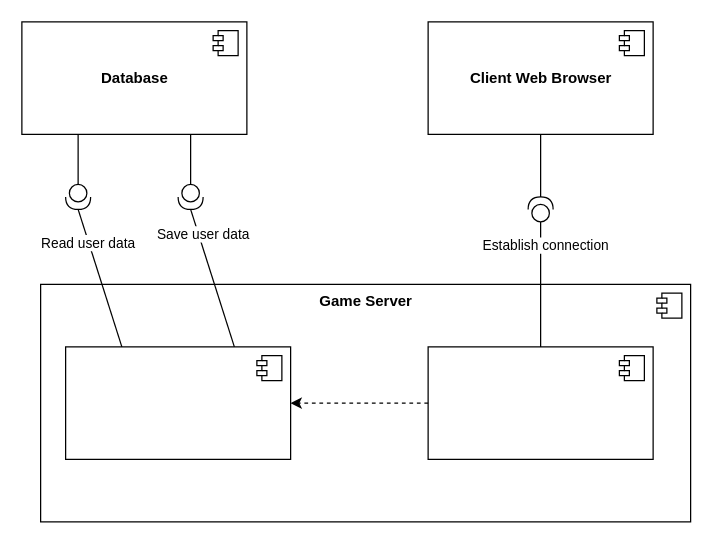
Image size: 713x544. Some labels were removed from this diagram. Each missing label, with the centre of its shape:
Database Controllet: the point at 177,402
Socket IO: the point at 540,402
